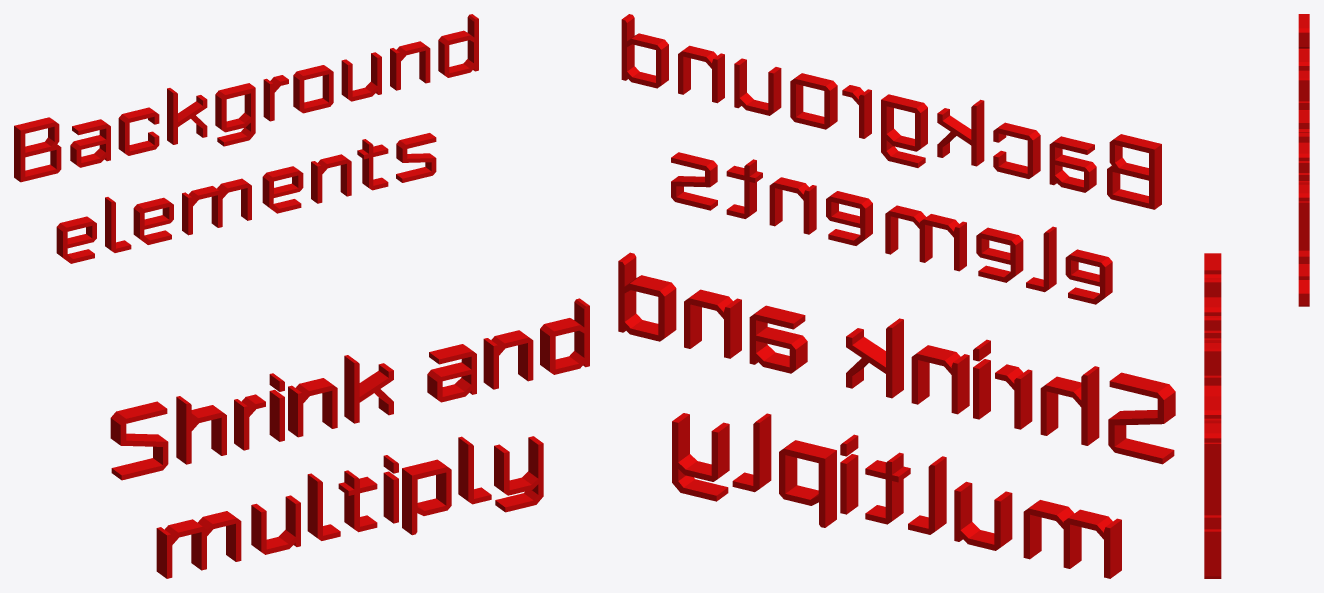
File: background_elements_shrink_multiply.fbx
3 renders of one model, left to right at view 1: azimuth 30°, elevation 25°; view 2: azimuth 150°, elevation 25°; view 3: azimuth 270°, elevation 25°, orthographic. The views are drawn at different scales.
Parts seen in each view (by area): view 1: Shrink_multiply_icon, background_elements_icon_; view 2: Shrink_multiply_icon, background_elements_icon_; view 3: Shrink_multiply_icon, background_elements_icon_.
Part boxes in pixels (box(x1,y1,x2,y2)): Shrink_multiply_icon: box(110, 298, 589, 578); background_elements_icon_: box(14, 14, 478, 263); Shrink_multiply_icon: box(618, 252, 1175, 578); background_elements_icon_: box(621, 14, 1161, 304); Shrink_multiply_icon: box(1204, 253, 1221, 578); background_elements_icon_: box(1298, 14, 1309, 306).
Size of the model in its own units: 30.91 by 25.64 by 6.5.
